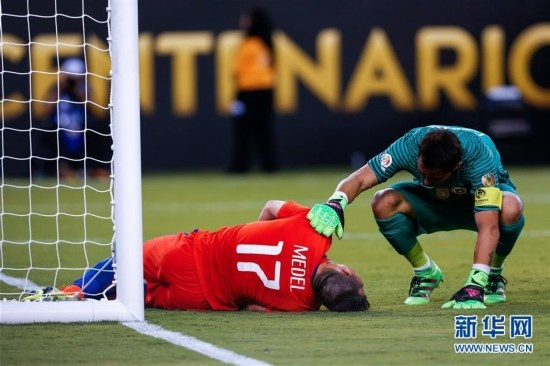falling: (0, 3, 125, 170)
